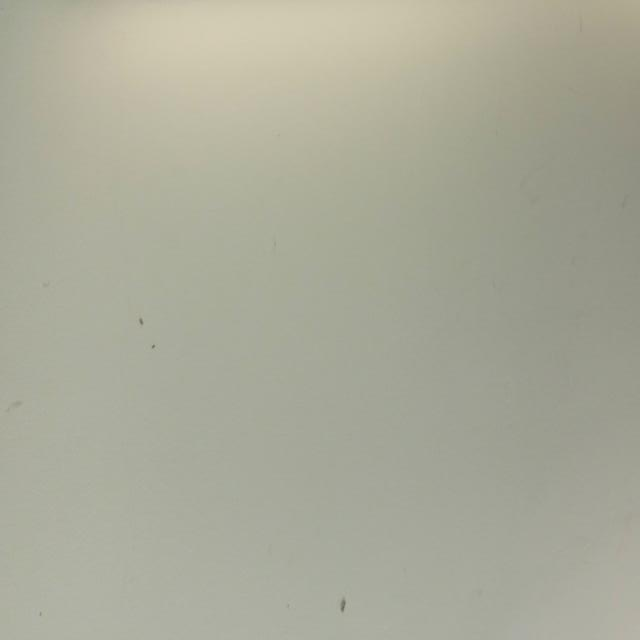fluorescent tube: (3, 0, 640, 21)
